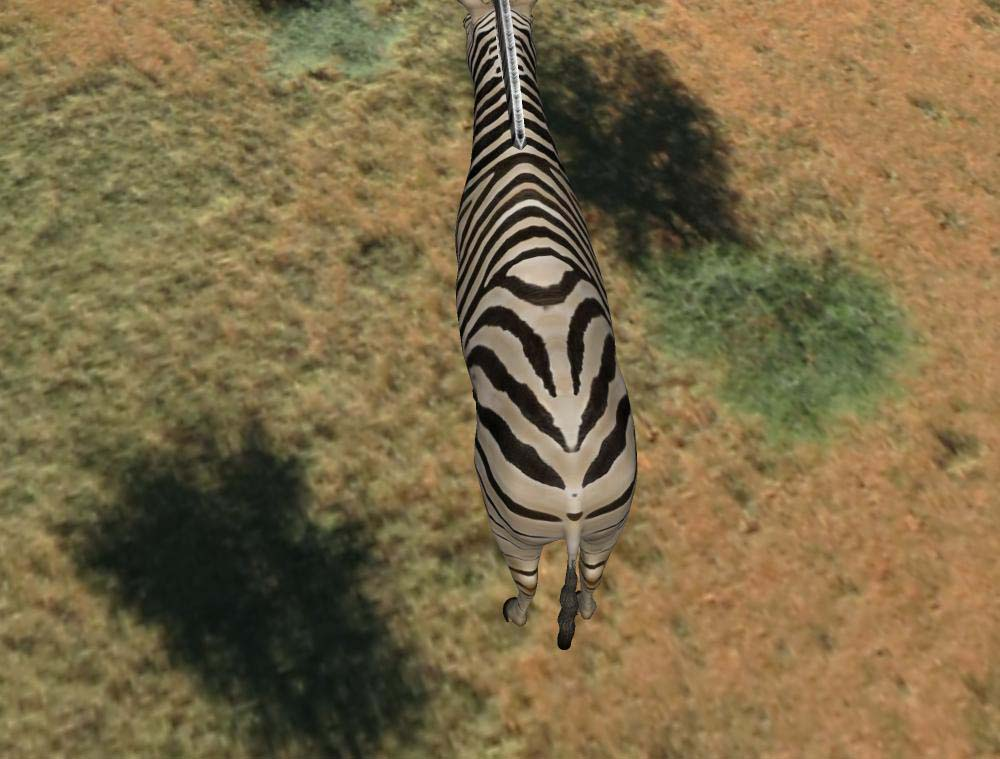zebra: (444, 1, 644, 650)
